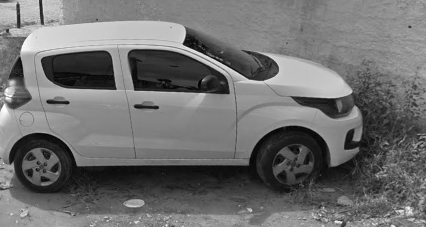car: (2, 21, 365, 196)
